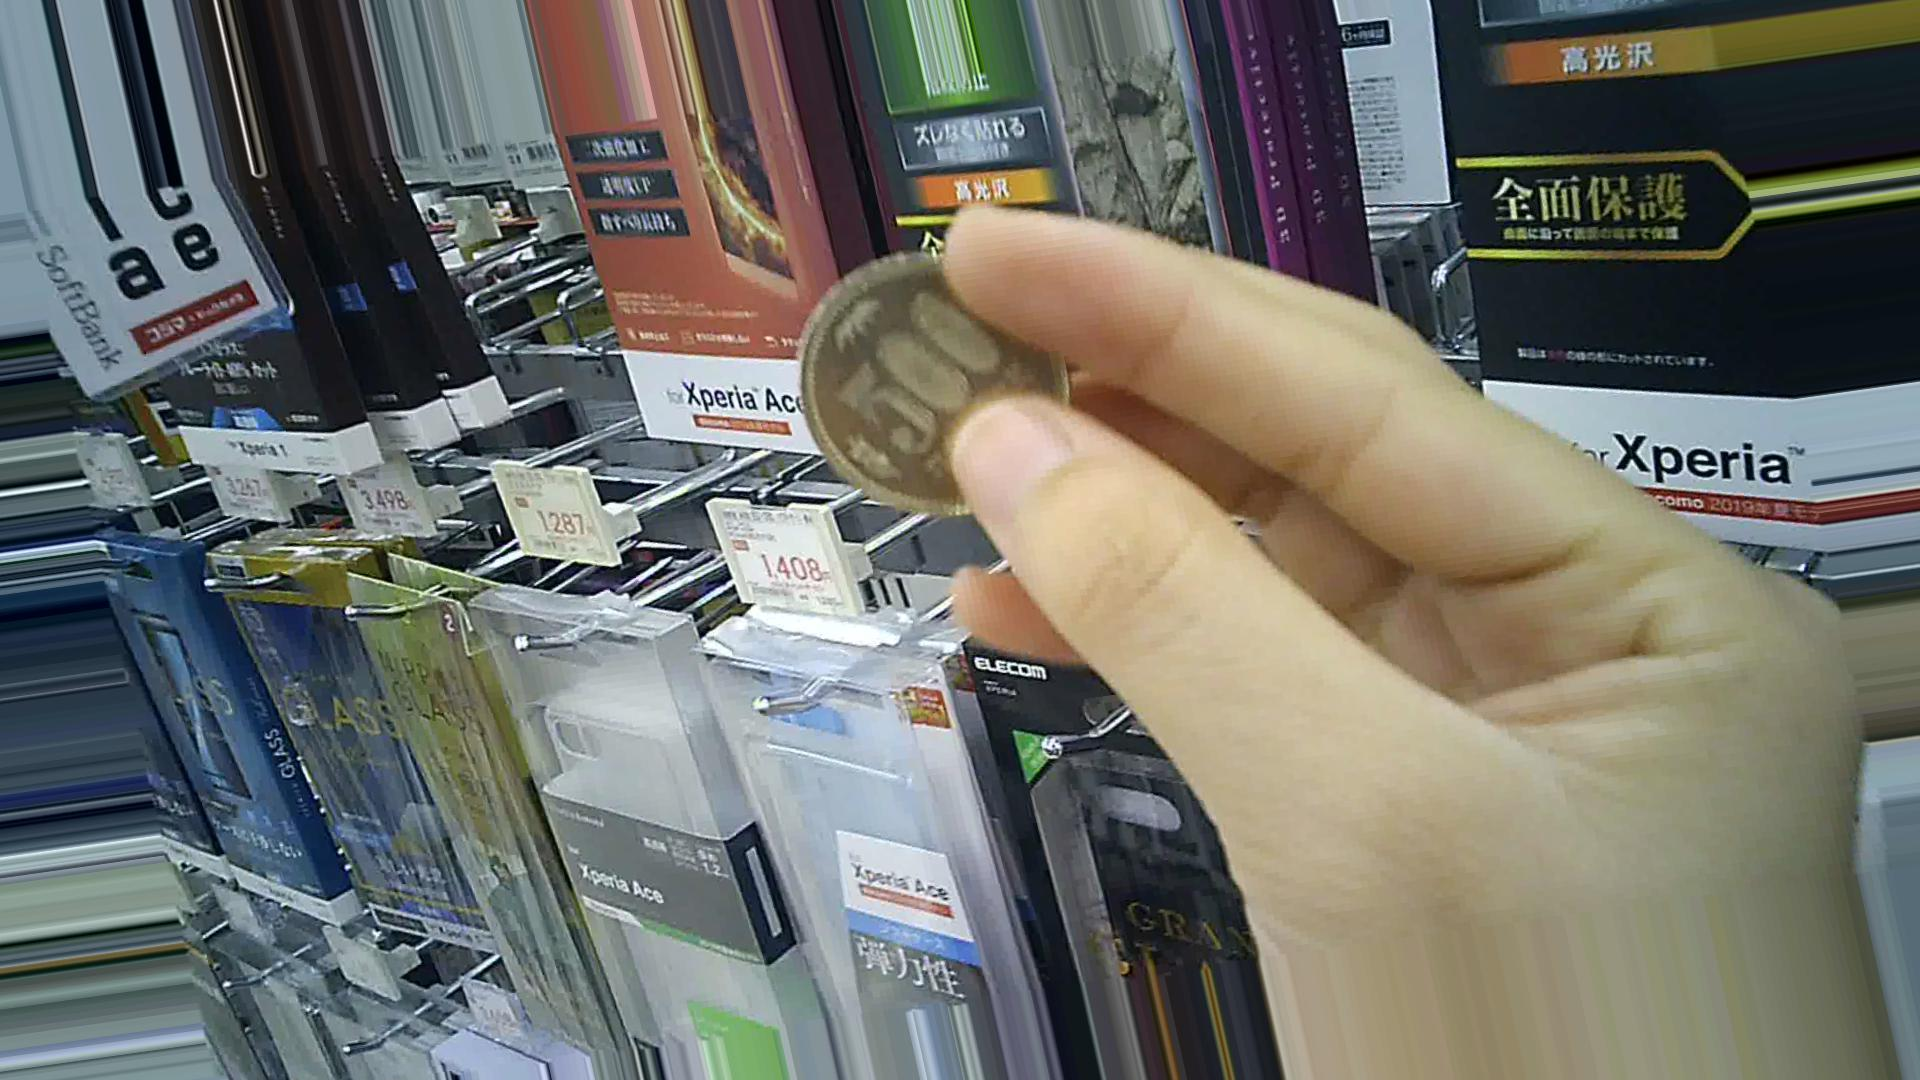500 Yen: (787, 247, 1095, 506)
